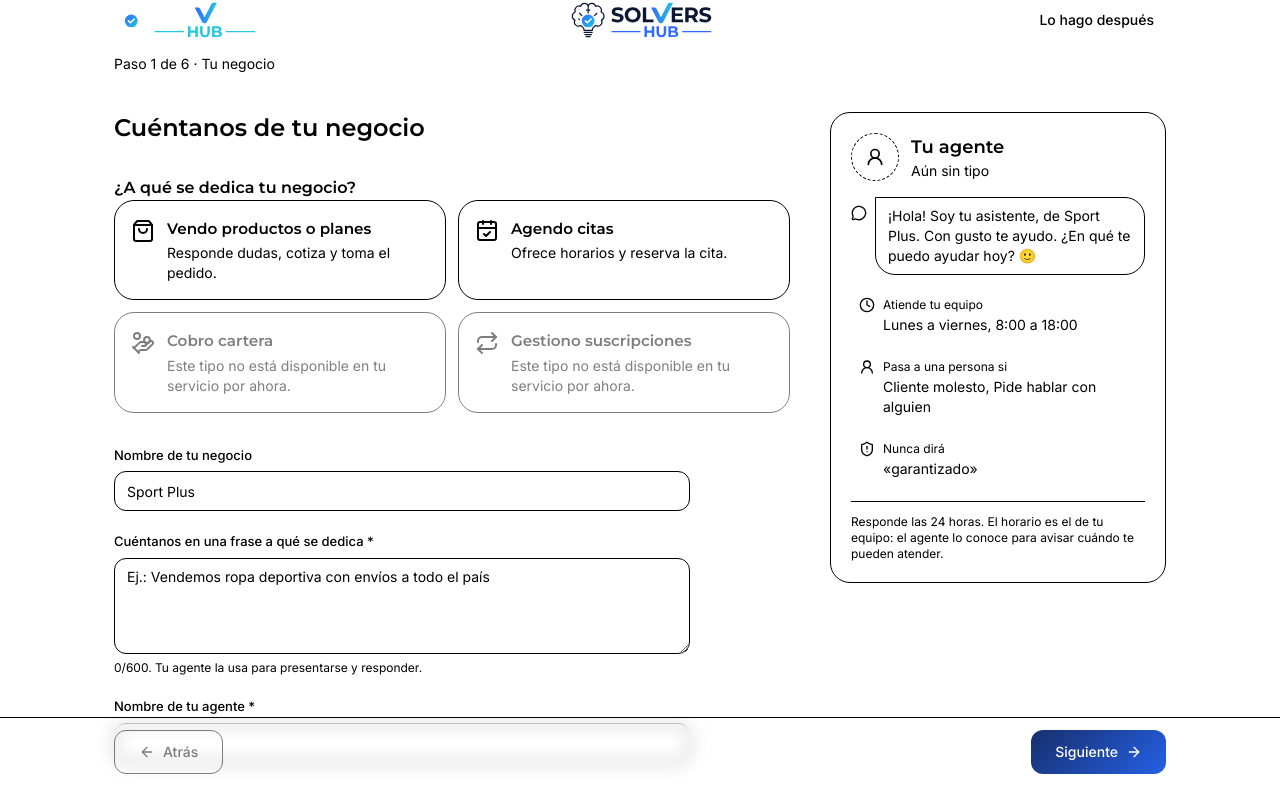
Scenario: asistente de primer uso › no deja avanzar sin tipo ni frase del negocio y dice qué falta
The width and height of the screenshot is (1280, 786).
Click the button "Siguiente" at (1099, 752), box [1031, 730, 1166, 774]
(page scrolled)
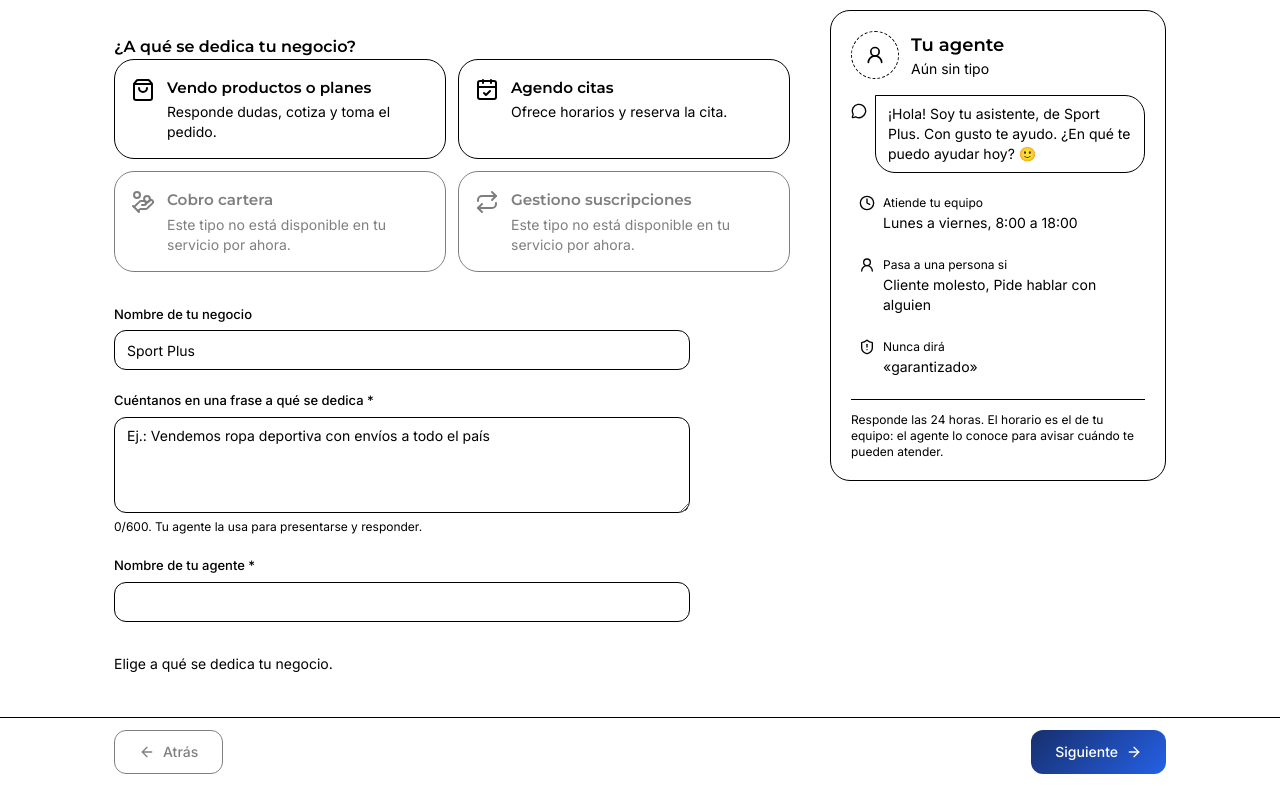
Check: the message shows "Elige a qué se dedica", box [114, 655, 333, 672]
